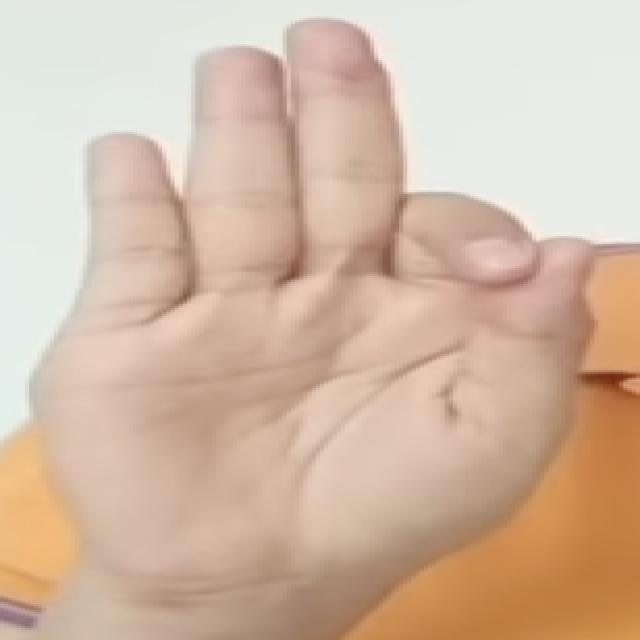F: (24, 10, 602, 606)
